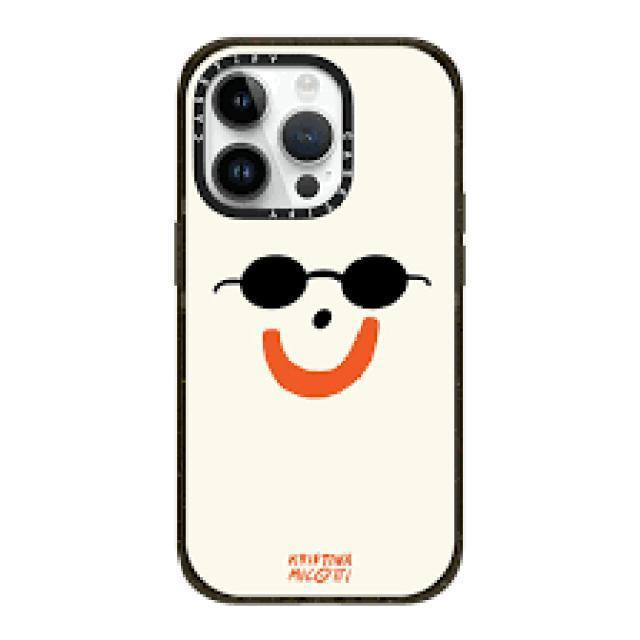phone: (164, 27, 468, 614)
